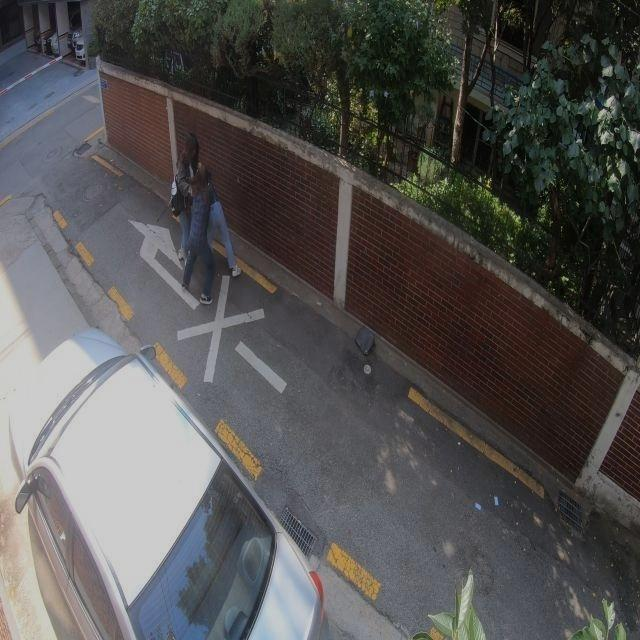fight: (167, 132, 240, 306)
